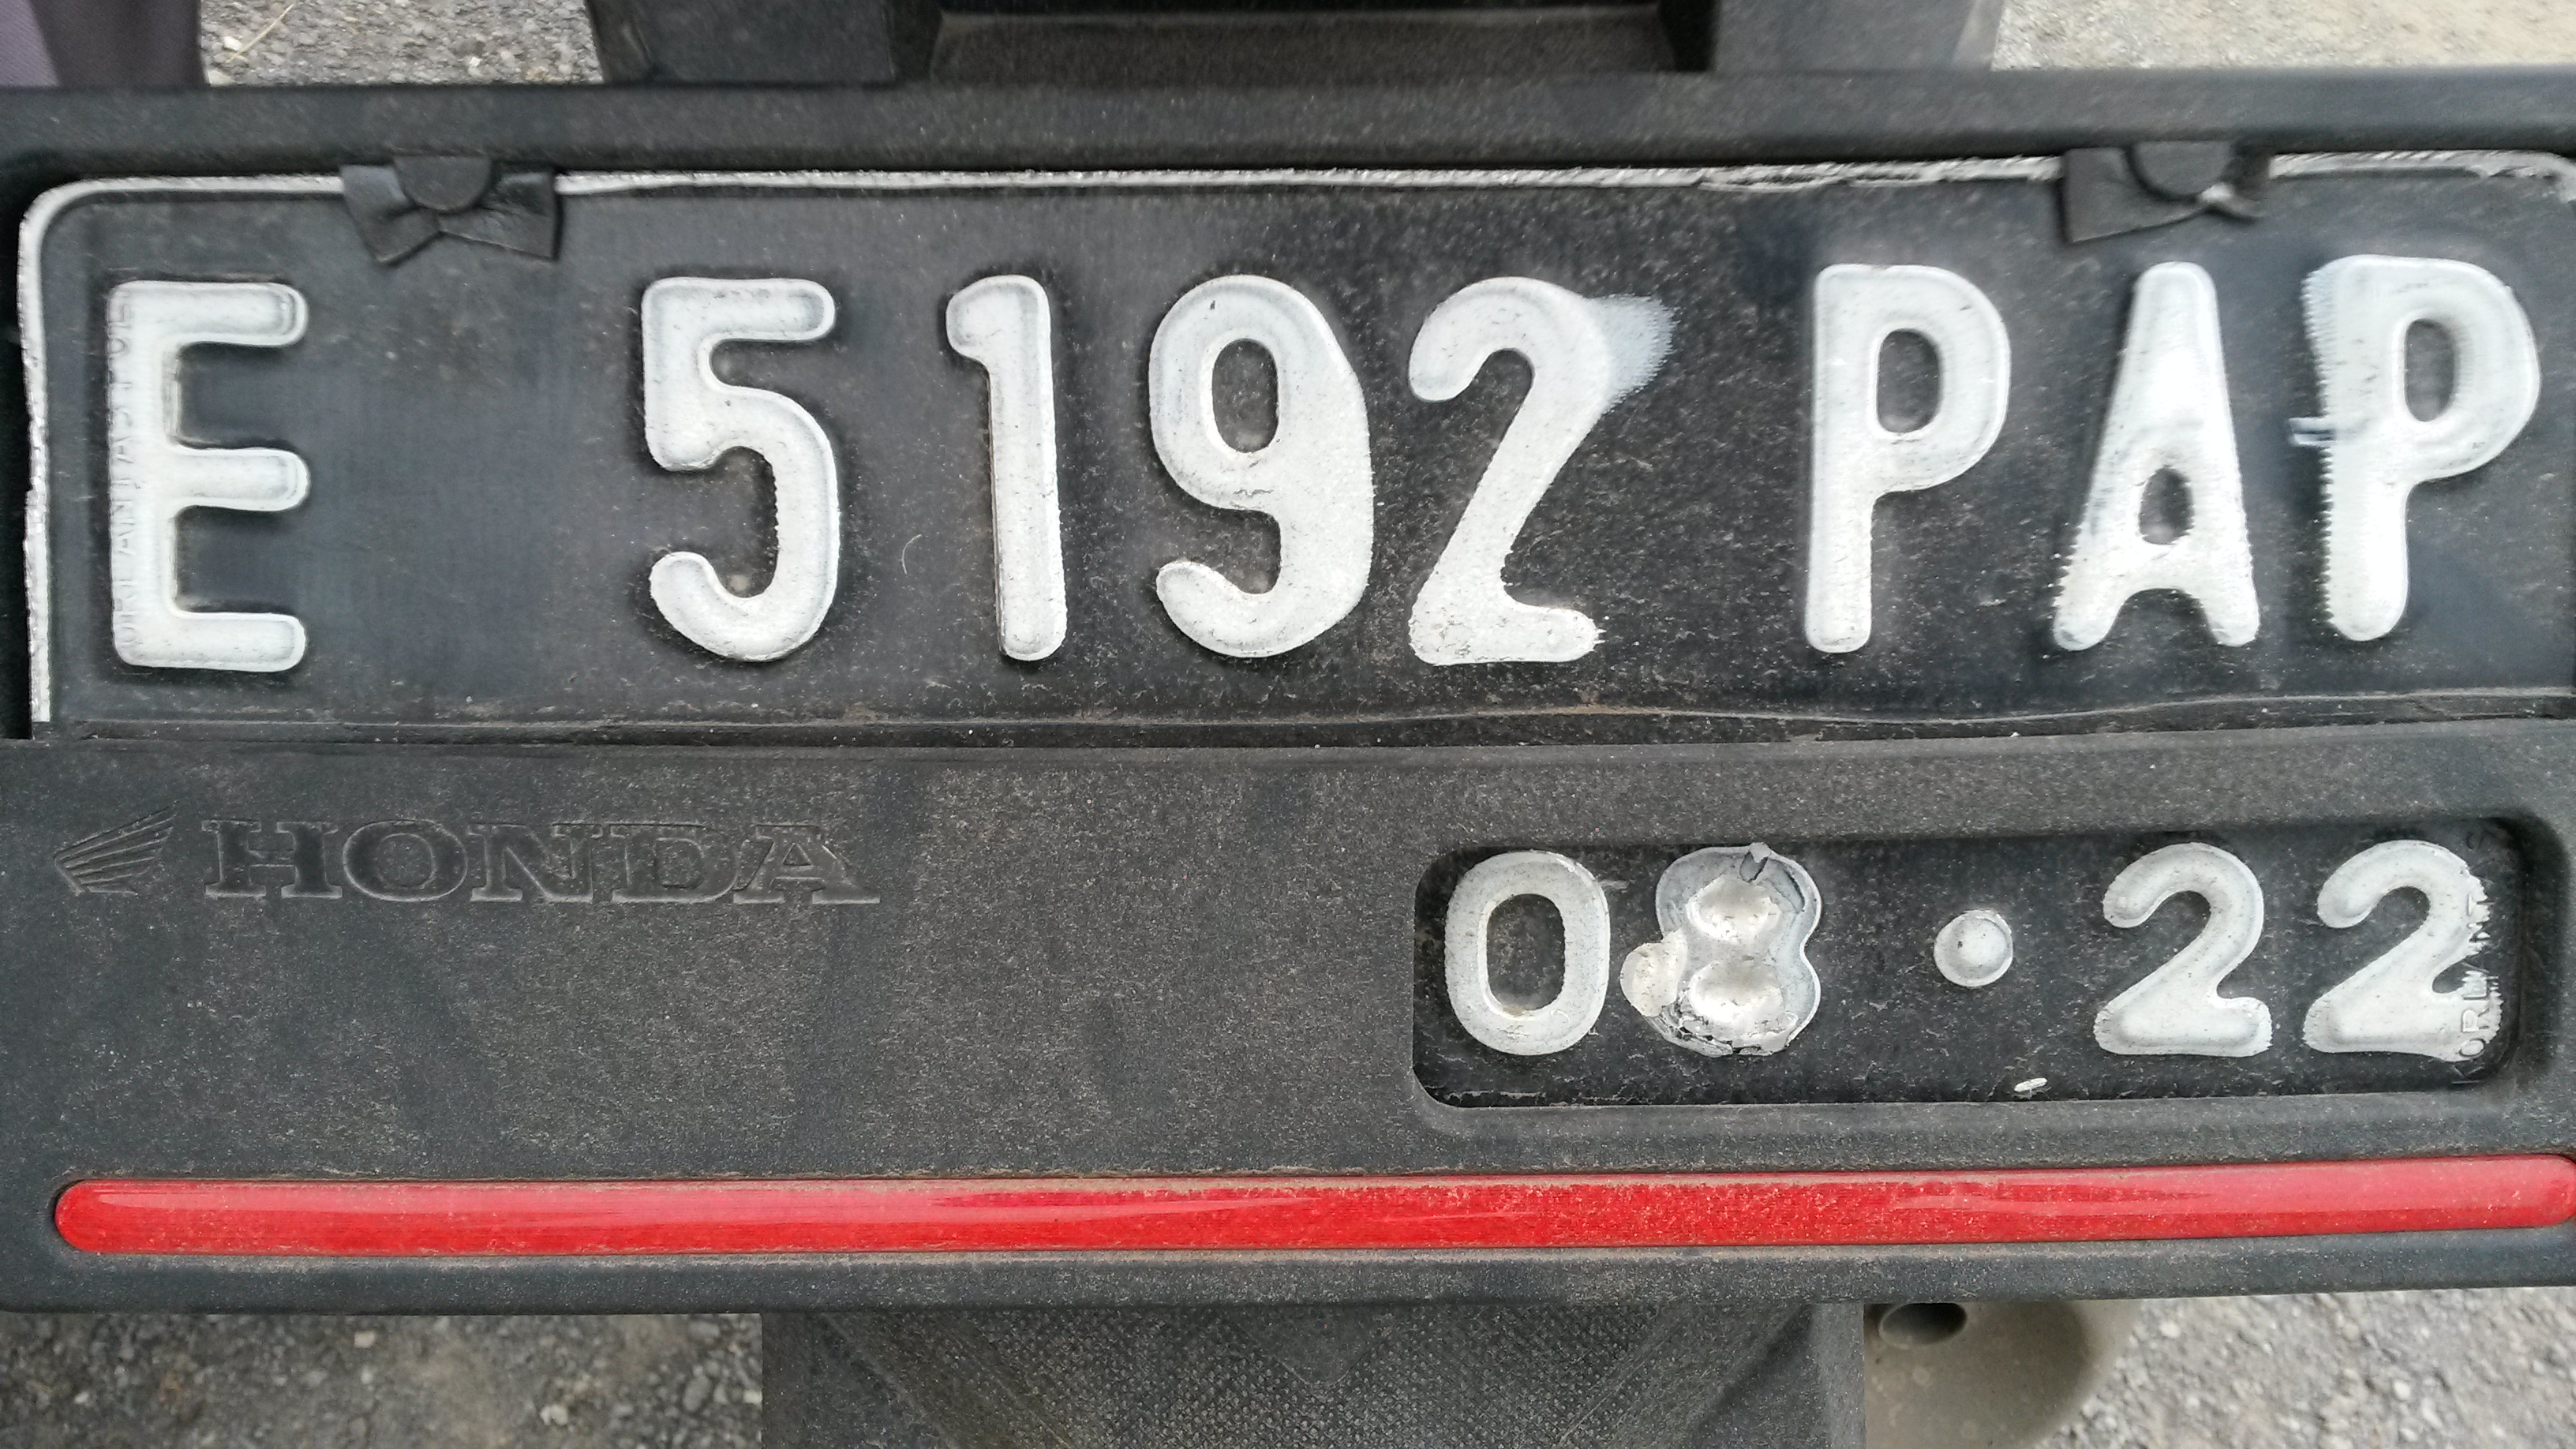plate: (21, 154, 2575, 1131)
